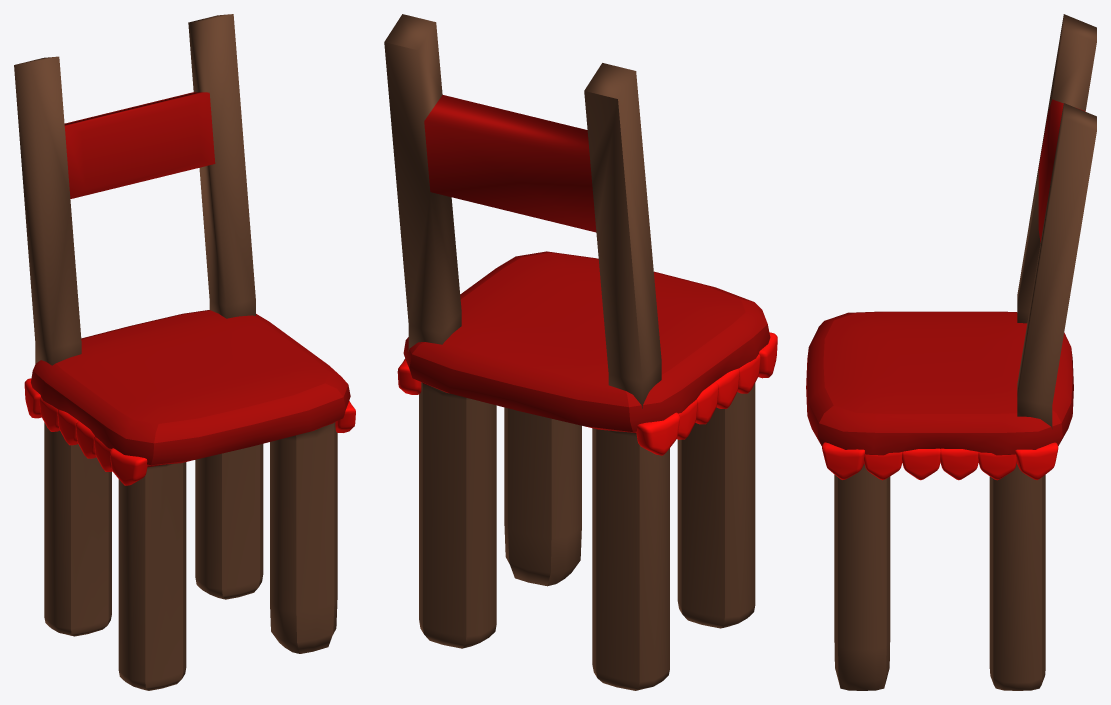
File: chair9.fbx
The picture shows the model from 3 angles, left to right: view 1: azimuth 30°, elevation 25°; view 2: azimuth 150°, elevation 25°; view 3: azimuth 270°, elevation 25°; orthographic projection. The views are drawn at different scales.
Visible parts, largest first — view 1: Chair9; view 2: Chair9; view 3: Chair9.
Part boxes in pixels (bbox=[...]): Chair9: bbox=[14, 14, 355, 690]; Chair9: bbox=[384, 14, 777, 690]; Chair9: bbox=[806, 14, 1096, 690].
Size of the model in its own units: 45.5 by 102 by 46.38.
